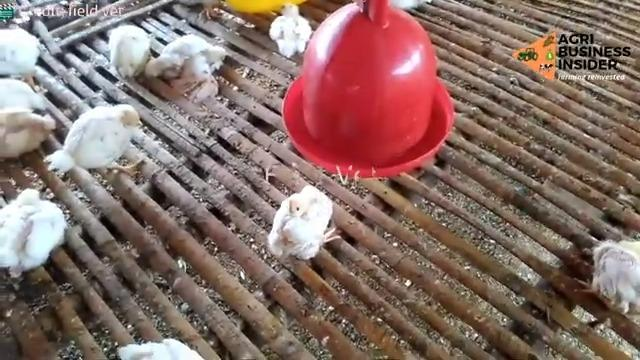AbNormal: (271, 192, 337, 261)
